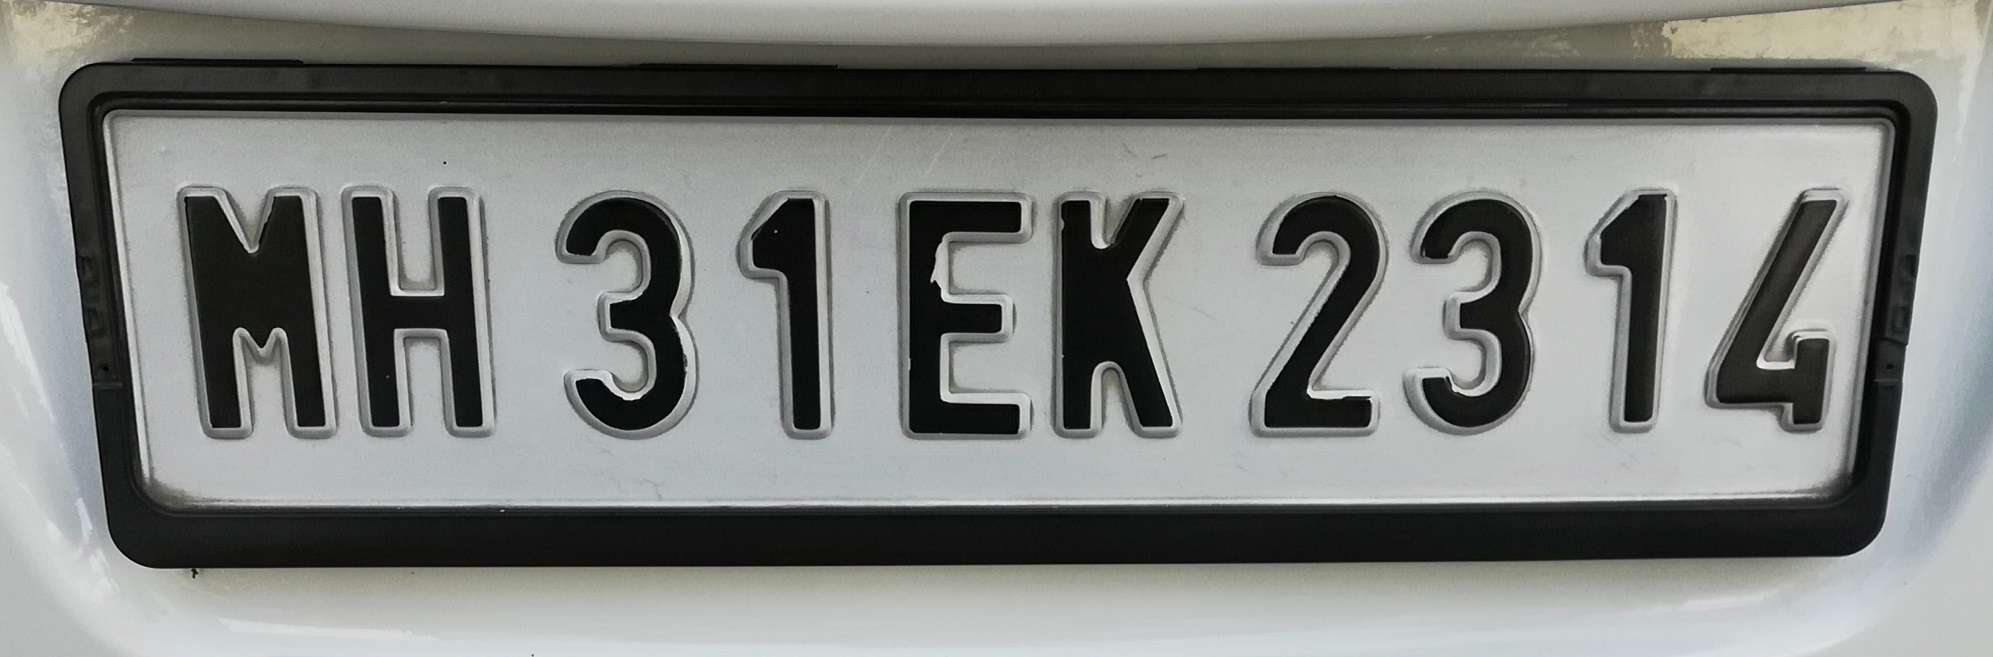numberplate: (56, 53, 1936, 568)
